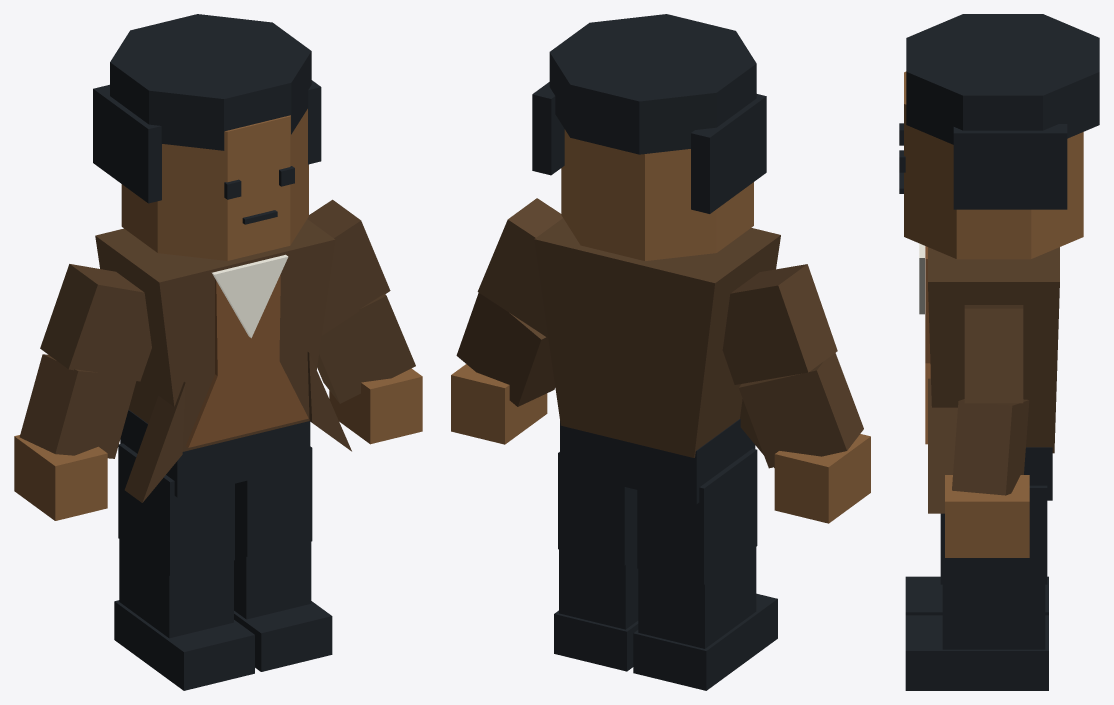
Rendered from JamesReynolds.glb.
3 renders of one model, left to right at view 1: azimuth 30°, elevation 25°; view 2: azimuth 150°, elevation 25°; view 3: azimuth 270°, elevation 25°, orthographic. The views are drawn at different scales.
Parts seen in each view (by area): view 1: Body_M_CastV02_black_1d2228, Body, Body_M_CastV02_darkSkin_90653c, Body_M_CastV02_white_f9f7ea; view 2: Body_M_CastV02_black_1d2228, Body, Body_M_CastV02_darkSkin_90653c; view 3: Body_M_CastV02_black_1d2228, Body, Body_M_CastV02_darkSkin_90653c, Body_M_CastV02_white_f9f7ea.
Part boxes in pixels (x1,y1,x2,y2): Body_M_CastV02_black_1d2228: (93,14,332,690); Body: (19,199,415,502); Body_M_CastV02_darkSkin_90653c: (14,109,422,520); Body_M_CastV02_white_f9f7ea: (212,254,288,338); Body_M_CastV02_black_1d2228: (532,14,777,690); Body: (456,198,863,468); Body_M_CastV02_darkSkin_90653c: (451,129,870,523); Body_M_CastV02_black_1d2228: (899,14,1099,690); Body: (925,246,1059,513); Body_M_CastV02_darkSkin_90653c: (904,71,1083,557); Body_M_CastV02_white_f9f7ea: (919,243,924,314).
Size of the model in its own units: 1.23 by 1.8 by 0.5463.
